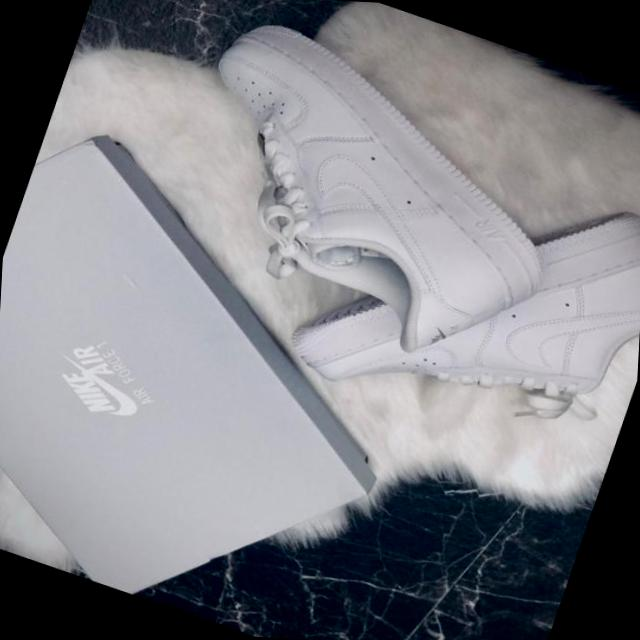nike_original_airforce: (138, 4, 618, 404), (266, 100, 640, 474)
